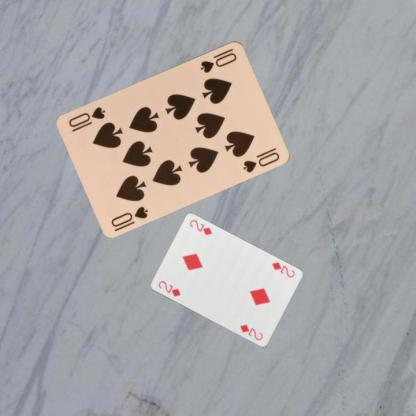10s: (198, 45, 238, 74), (108, 203, 150, 228)
2d: (269, 259, 296, 279), (155, 278, 182, 297)
